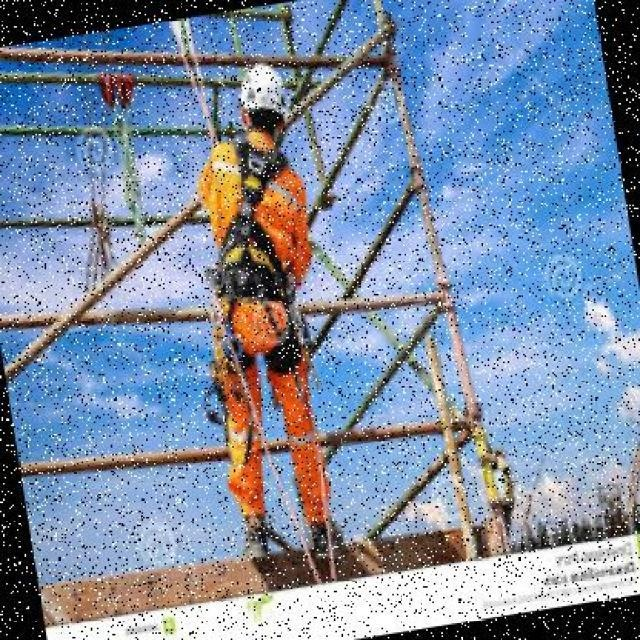Arnes_seguridad: (162, 126, 335, 425)
